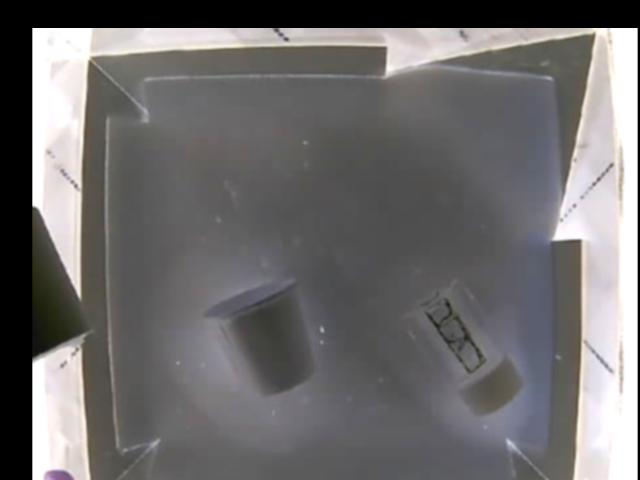Bottle: (406, 276, 526, 415)
Cup: (201, 280, 317, 400)
